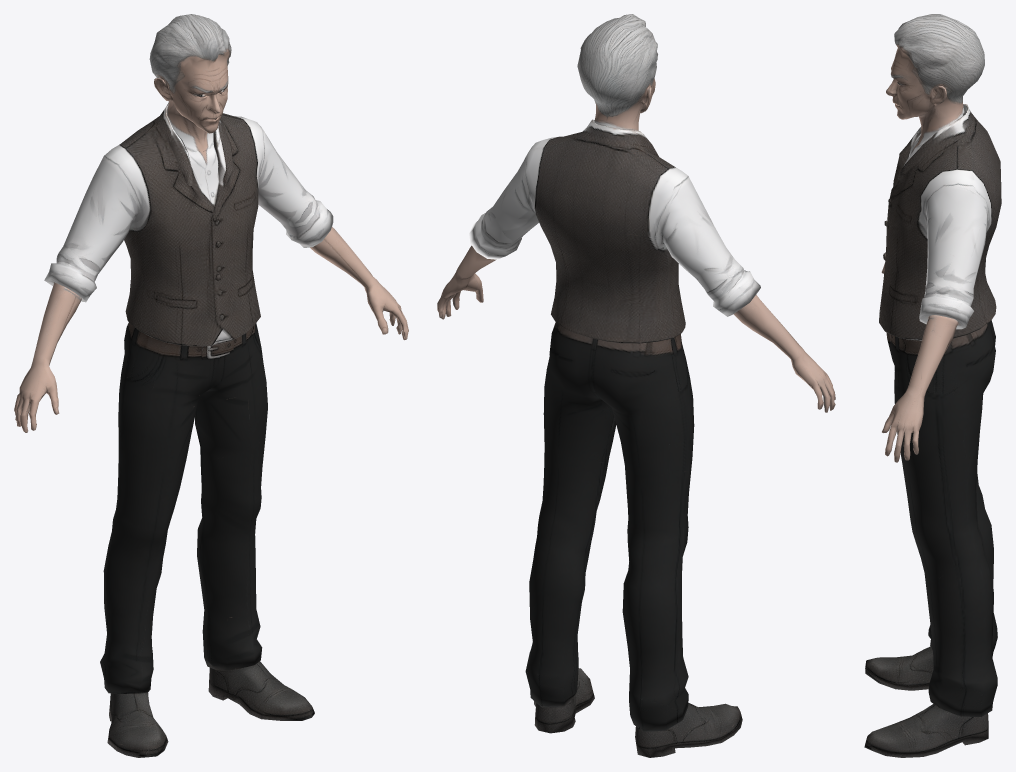
The model's file is Meshy_AI__0914231929_texture.obj.
The picture shows the model from 3 angles, left to right: view 1: azimuth 30°, elevation 25°; view 2: azimuth 150°, elevation 25°; view 3: azimuth 270°, elevation 25°; orthographic projection.
Visible parts, largest first — view 1: Meshy_AI__0914231929_texture; view 2: Meshy_AI__0914231929_texture; view 3: Meshy_AI__0914231929_texture.
Part boxes in pixels (box(x1,y1,x2,y2)): Meshy_AI__0914231929_texture: box(14, 14, 408, 757); Meshy_AI__0914231929_texture: box(437, 14, 835, 757); Meshy_AI__0914231929_texture: box(864, 14, 1001, 757).
Size of the model in its own units: 0.5801 by 1 by 0.1792.
1 material, 1 textured.
